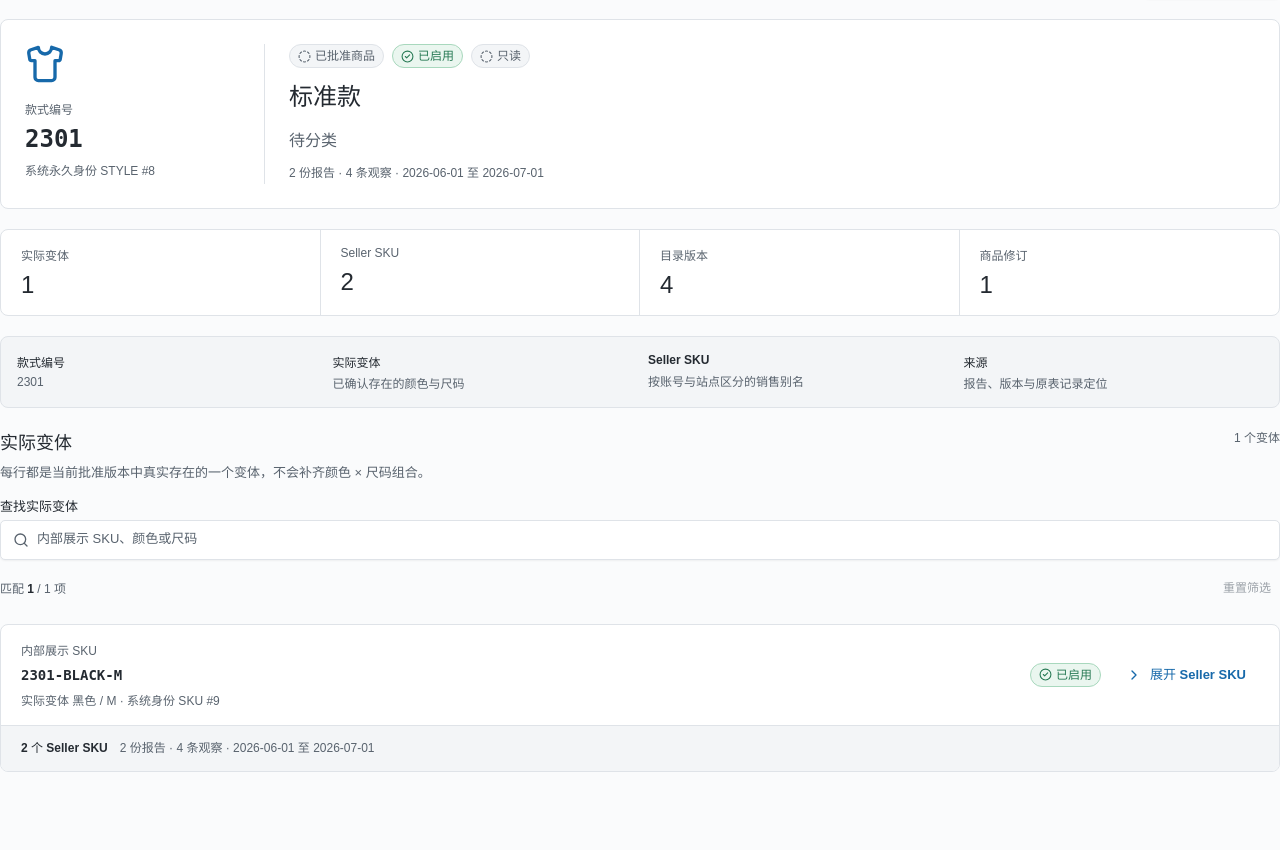
CatalogStylePage › loads N:1 Seller SKU aliases and source evidence only when requested
Click the button "展开 Seller SKU" at coordinates (1186, 675), box left=1113, top=657, right=1259, bottom=693
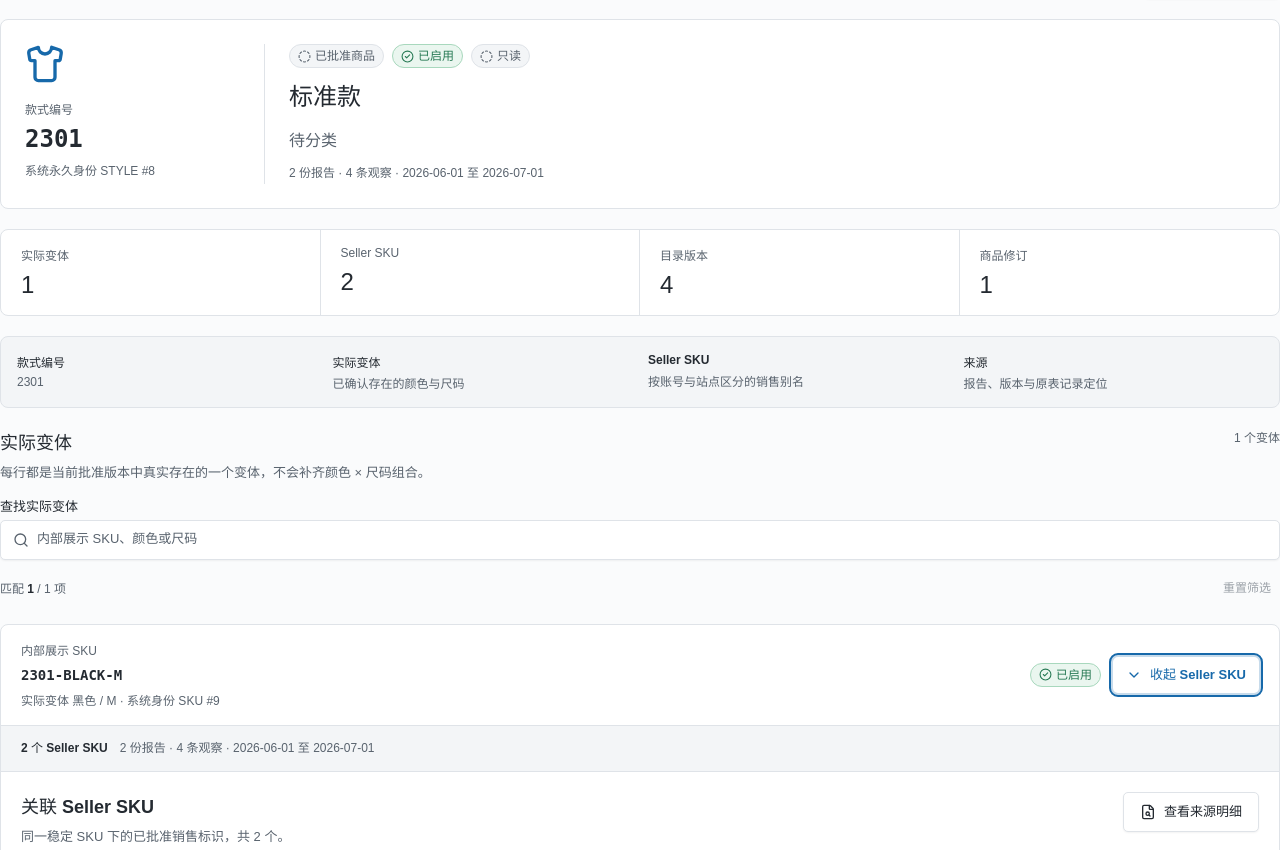
Click the button "查看来源明细" at coordinates (1191, 812), box left=1123, top=792, right=1259, bottom=832
(page scrolled)
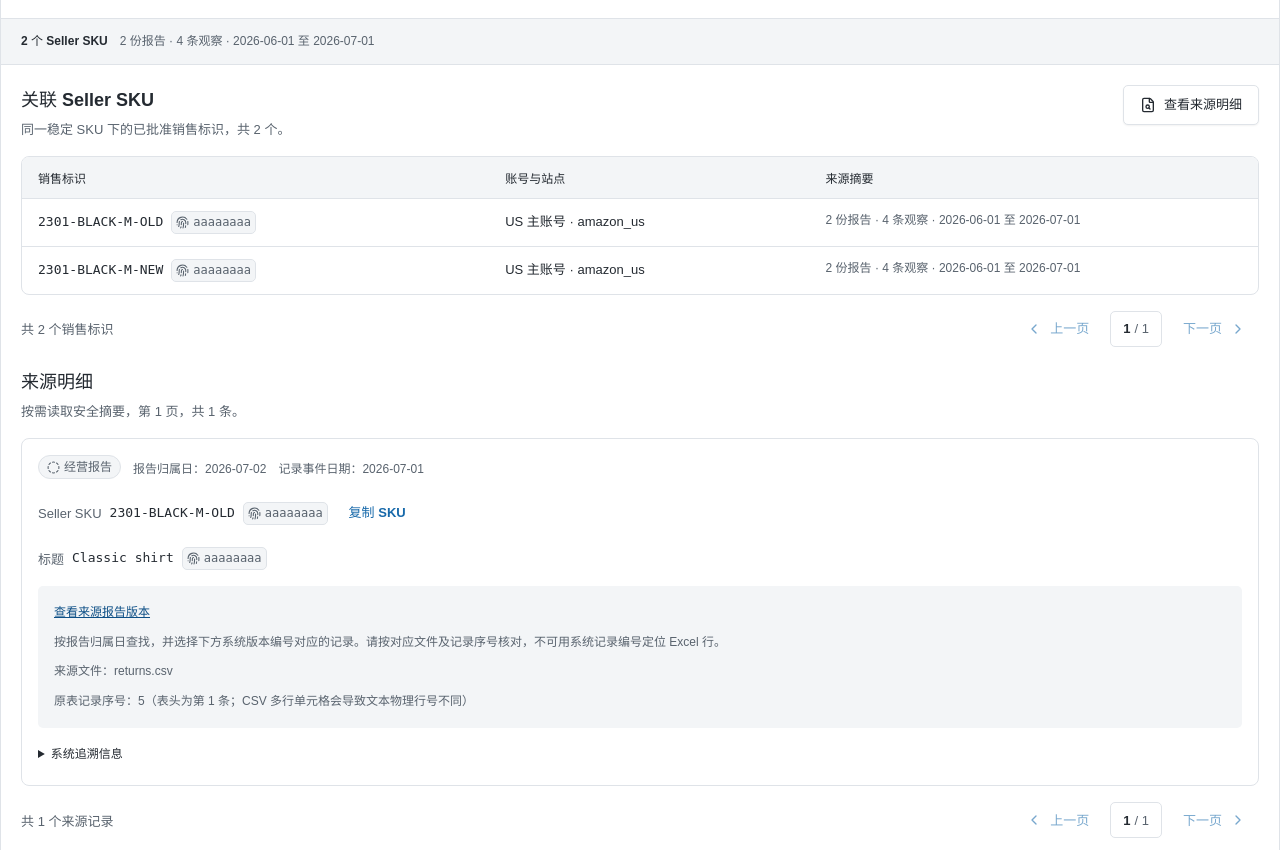
Check: the text "Classic shirt" is shown, box left=72, top=548, right=174, bottom=569
Check: the text "报告归属日：2026-07-02" is shown, box left=133, top=459, right=266, bottom=476
Check: the text "记录事件日期：2026-07-01" is shown, box left=278, top=459, right=424, bottom=476
Click the heading "系统追溯信息" at coordinates (87, 754), box left=51, top=747, right=123, bottom=761
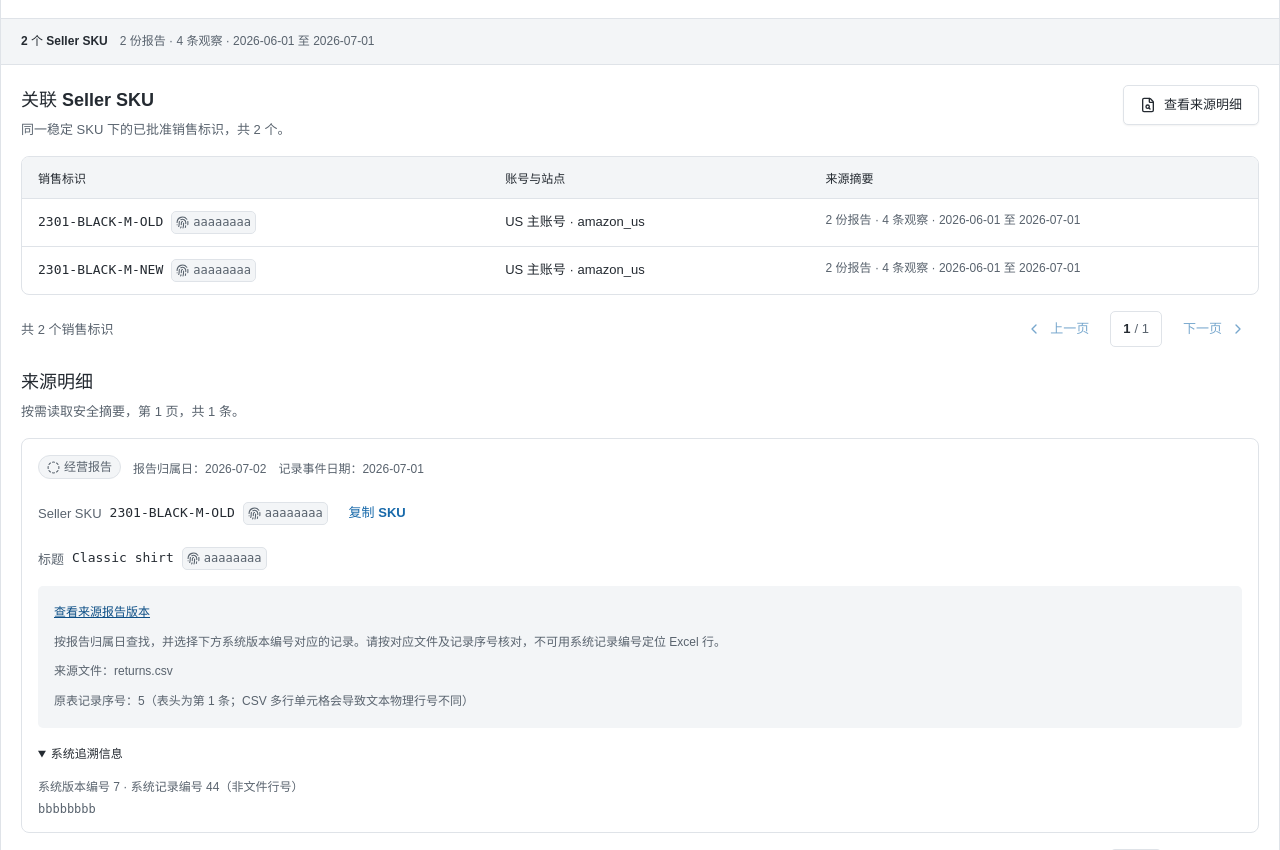
Check: the text "系统版本编号 7 · 系统记录编号 44（非文件行号）" is shown, box left=38, top=780, right=303, bottom=794
